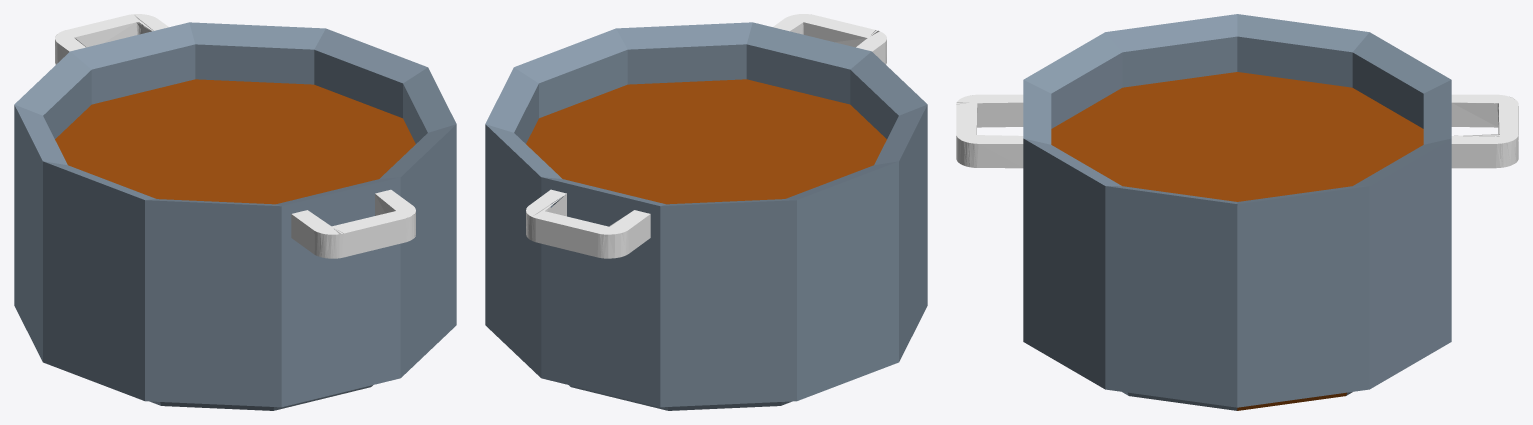
File: potHoney.FBX
The picture shows the model from 3 angles, left to right: view 1: azimuth 30°, elevation 25°; view 2: azimuth 150°, elevation 25°; view 3: azimuth 270°, elevation 25°; orthographic projection.
Parts seen in each view (by area): view 1: potStew; view 2: potStew; view 3: potStew.
Part boxes in pixels (<box>): potStew: <box>14,14,456,410</box>; potStew: <box>485,14,927,410</box>; potStew: <box>956,14,1518,410</box>.
Size of the model in its own units: 65.74 by 36.08 by 82.21.
